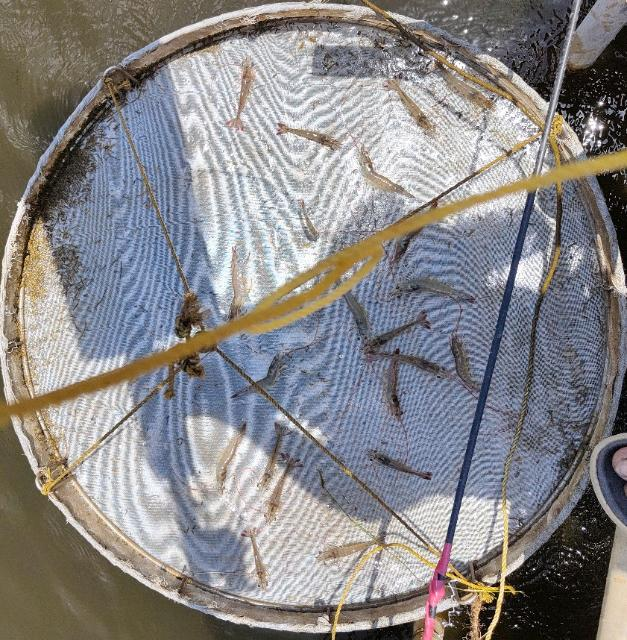shrimp: (436, 58, 495, 110), (357, 143, 413, 197), (231, 351, 292, 398), (384, 79, 435, 135), (365, 310, 430, 352), (391, 275, 475, 304), (216, 422, 245, 494), (258, 423, 289, 489), (230, 57, 255, 131), (450, 331, 480, 392), (368, 451, 430, 479), (277, 122, 340, 149), (344, 290, 373, 346), (317, 540, 386, 562), (242, 529, 266, 589), (390, 226, 423, 269), (383, 349, 402, 420), (228, 246, 244, 320), (298, 199, 319, 241)
